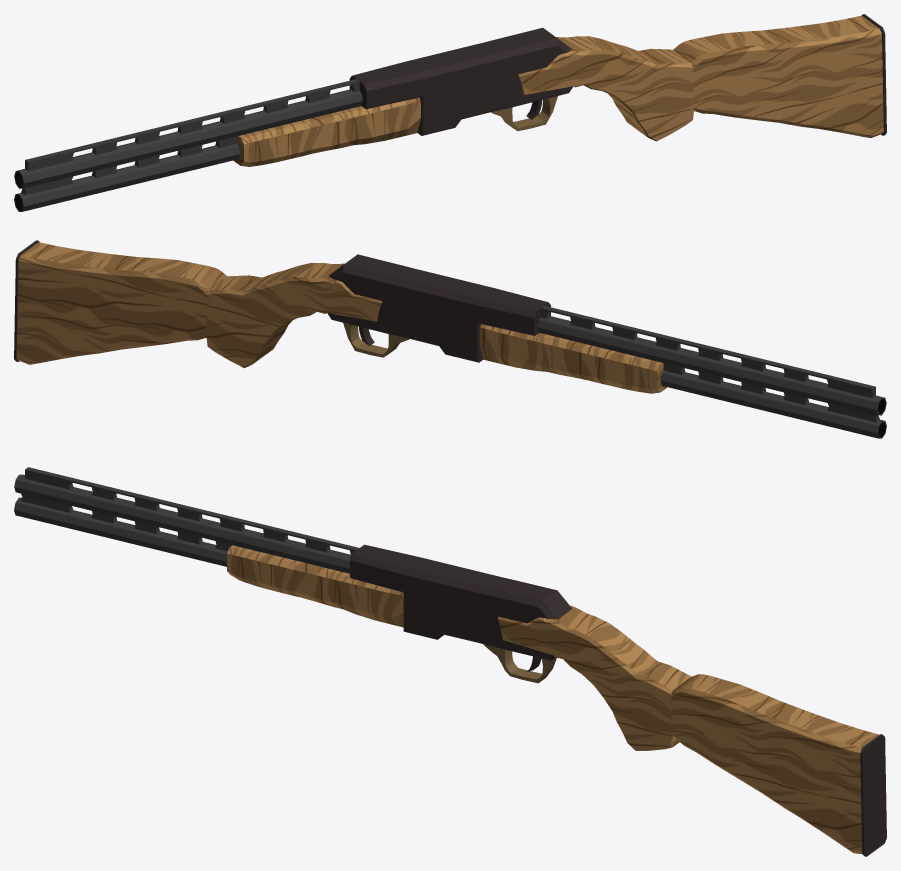
The model's file is lowpoly_shotgun.glb.
3 views of the same model, one above another, from view 1: azimuth 30°, elevation 25°; view 2: azimuth 150°, elevation 25°; view 3: azimuth 330°, elevation 25° (orthographic).
Visible parts, largest first — view 1: g (×11); view 2: g (×11); view 3: g (×9).
Part boxes in pixels (x1,y1,x2,y2): g (×11): [14, 14, 886, 211]; g (×11): [14, 240, 886, 438]; g (×9): [14, 467, 886, 856].
Size of the model in its own units: 2 by 0.3903 by 0.0915.
Materials: 6 (6 with a texture image).
